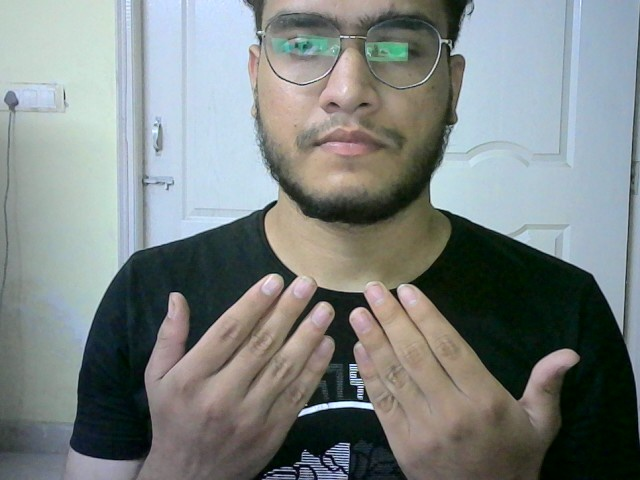Thank You: (147, 262, 585, 480)
